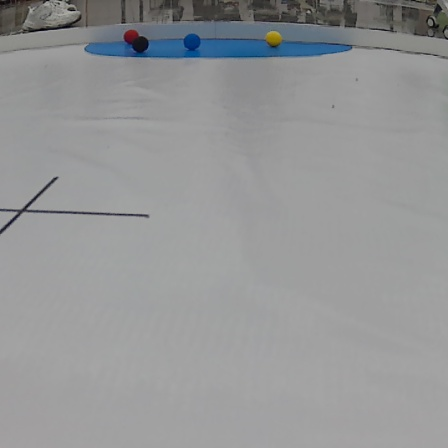black: (129, 36, 152, 51)
blue: (182, 33, 203, 50)
blue_base: (82, 41, 351, 57)
red: (123, 24, 140, 43)
yellow: (263, 30, 284, 46)
